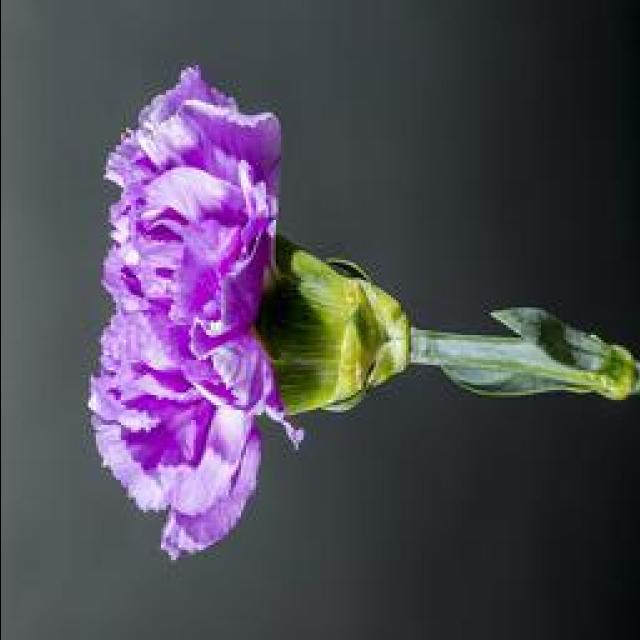carnation: (71, 51, 349, 566)
